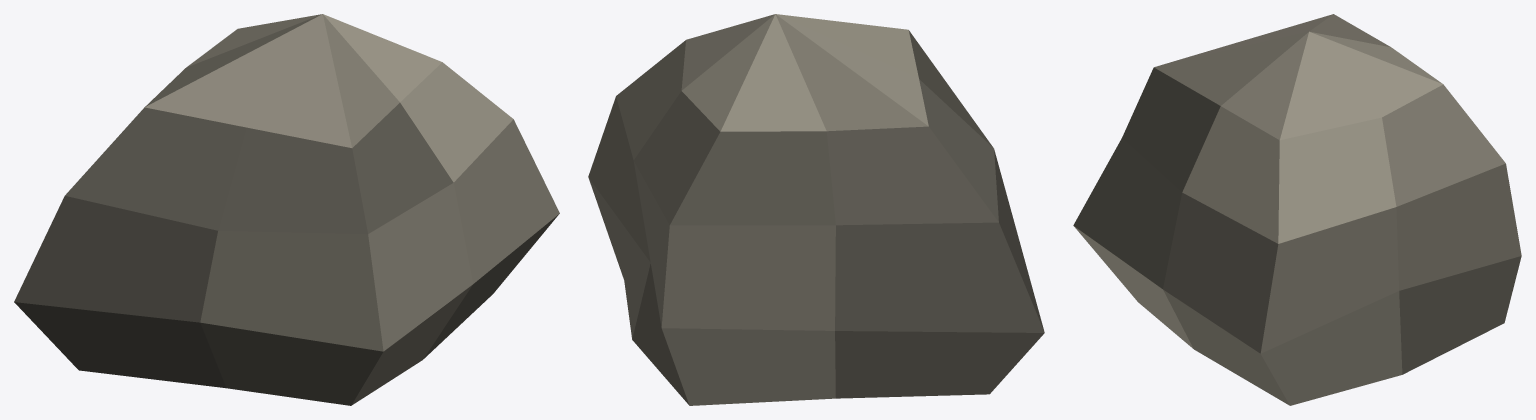
The model's file is river-stone-b.glb.
3 renders of one model, left to right at view 1: azimuth 30°, elevation 25°; view 2: azimuth 150°, elevation 25°; view 3: azimuth 270°, elevation 25°, orthographic. The views are drawn at different scales.
Parts seen in each view (by area): view 1: River_Stone_B; view 2: River_Stone_B; view 3: River_Stone_B.
Part boxes in pixels (left/top/right/bottom): River_Stone_B: left=14, top=14, right=559, bottom=405; River_Stone_B: left=588, top=14, right=1044, bottom=405; River_Stone_B: left=1073, top=14, right=1521, bottom=405.
Bounding box in the file's own units: 0.9604 × 0.6344 × 0.7771.
Materials: 1 (1 with a texture image).
